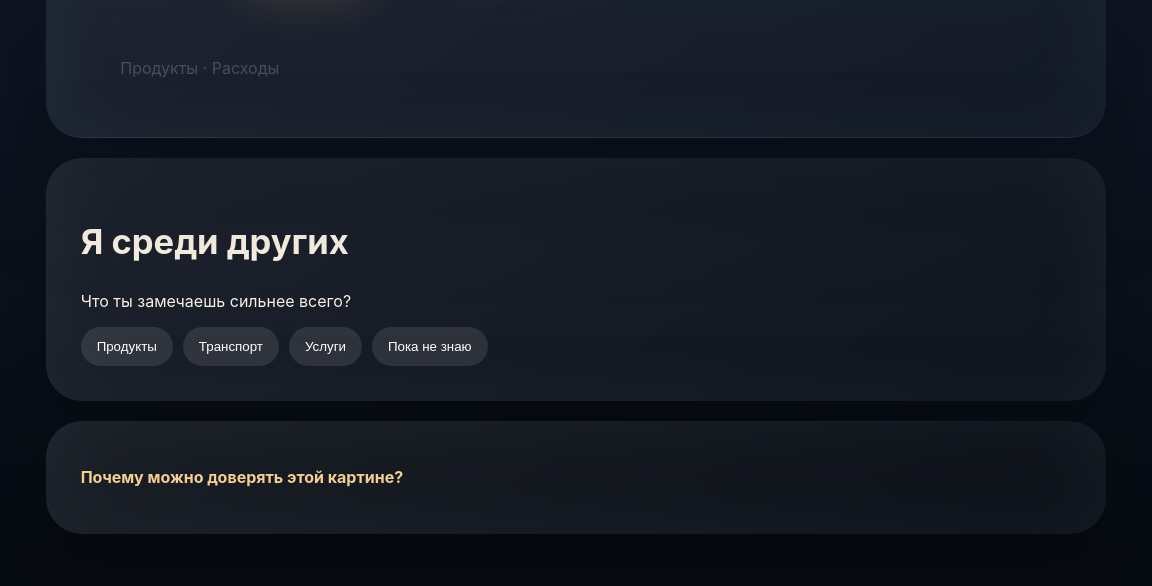
Scenario: lab v4 › выбор Я среди других меняет текст
(page scrolled)
Click the button "Продукты" at (127, 346), box [81,327,173,366]
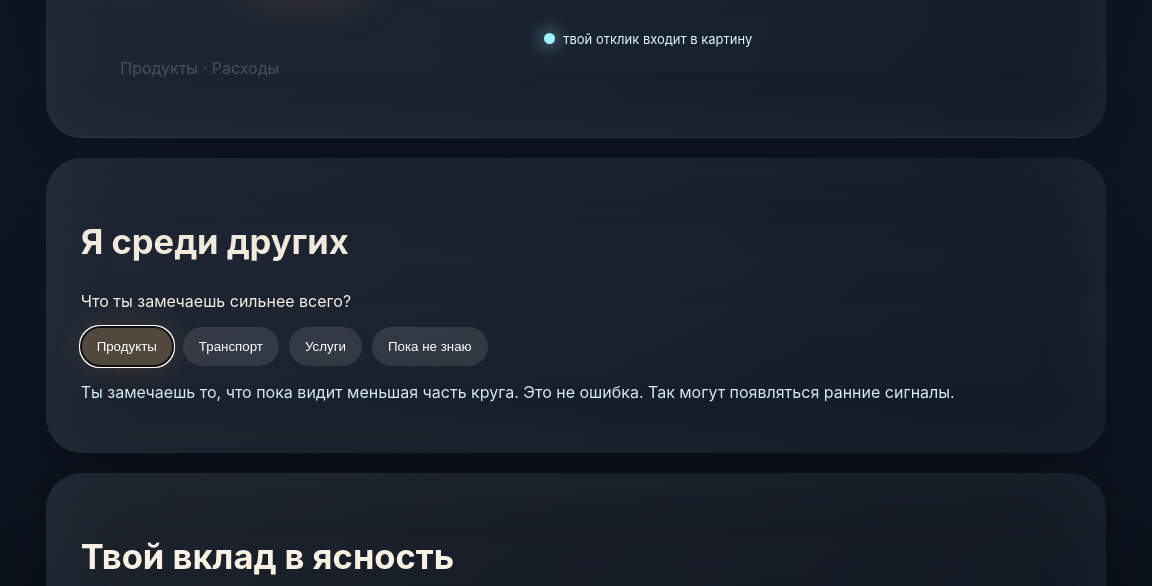
Now the text "меньшая часть круга" is shown, box [81,382,955,402]
Click the button "Транспорт" at (231, 346), box [183,327,279,366]
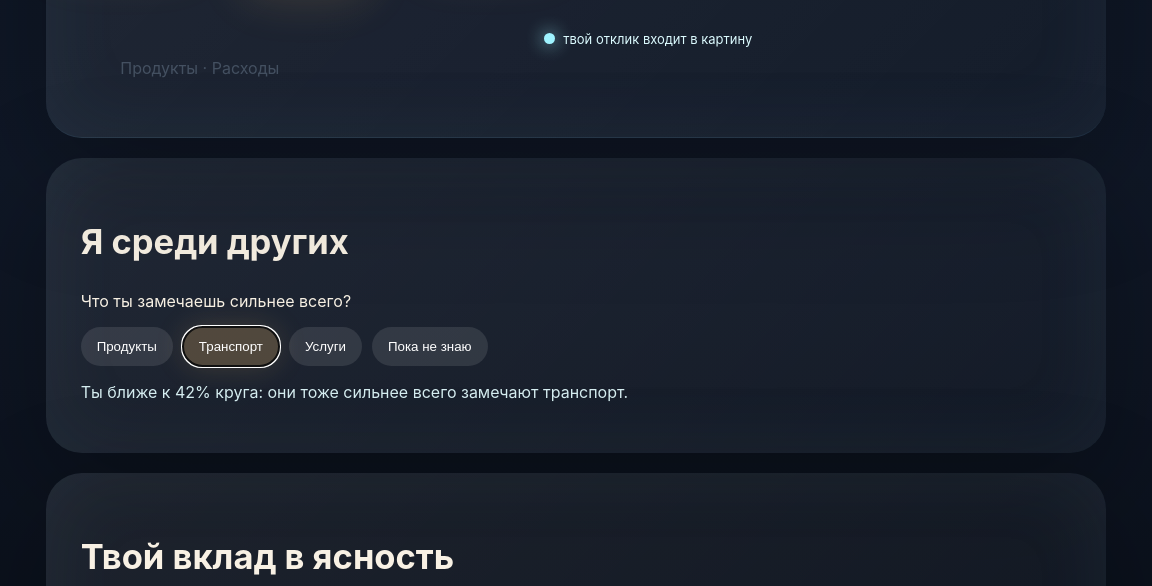
Expected: the button "Услуги" is shown, [289,327,362,366]
Now the text "Ты ближе к 42% круга" is shown, box [81,382,628,402]
